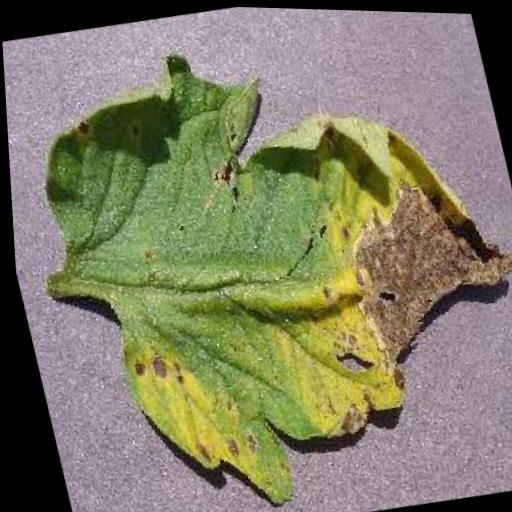Septoria: (14, 0, 512, 512)
